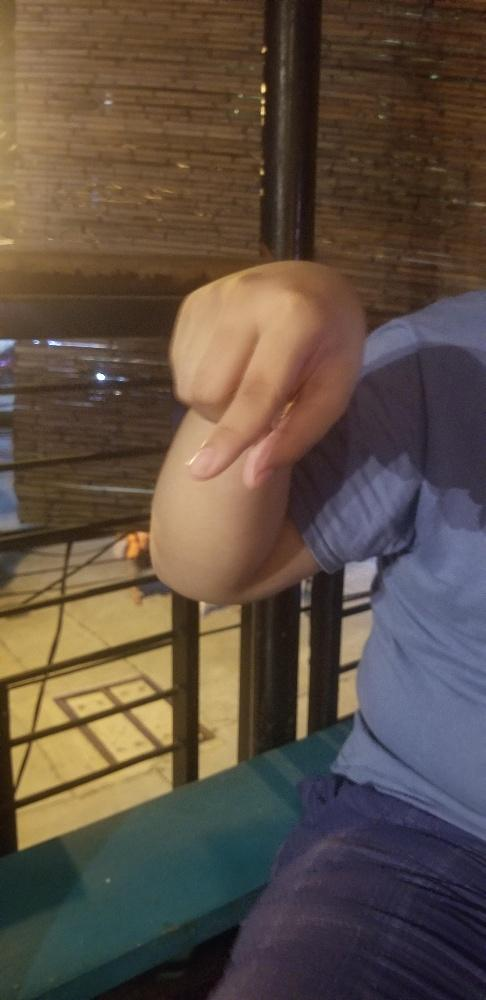z: (160, 255, 366, 491)
